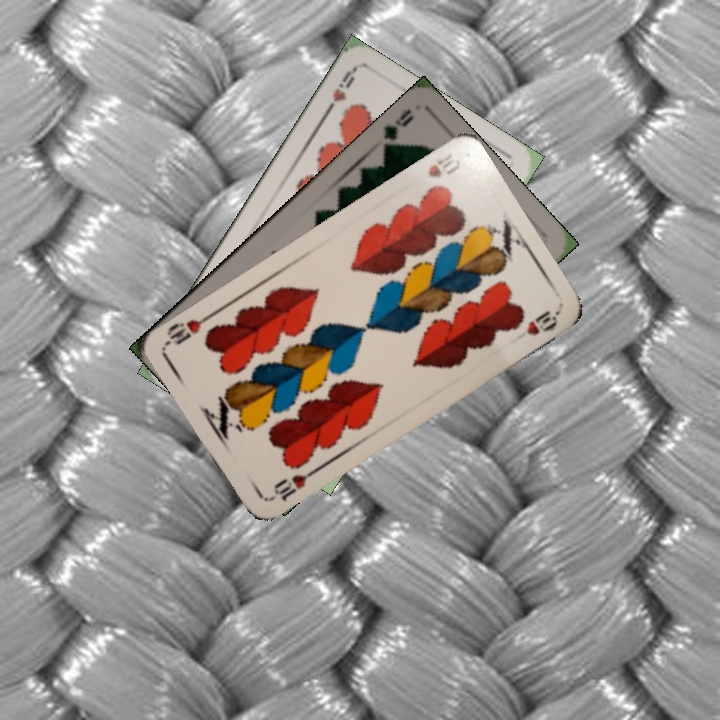G9: (379, 105, 416, 156)
H10: (269, 465, 318, 505), (423, 148, 464, 181)
H9: (320, 65, 358, 118)
